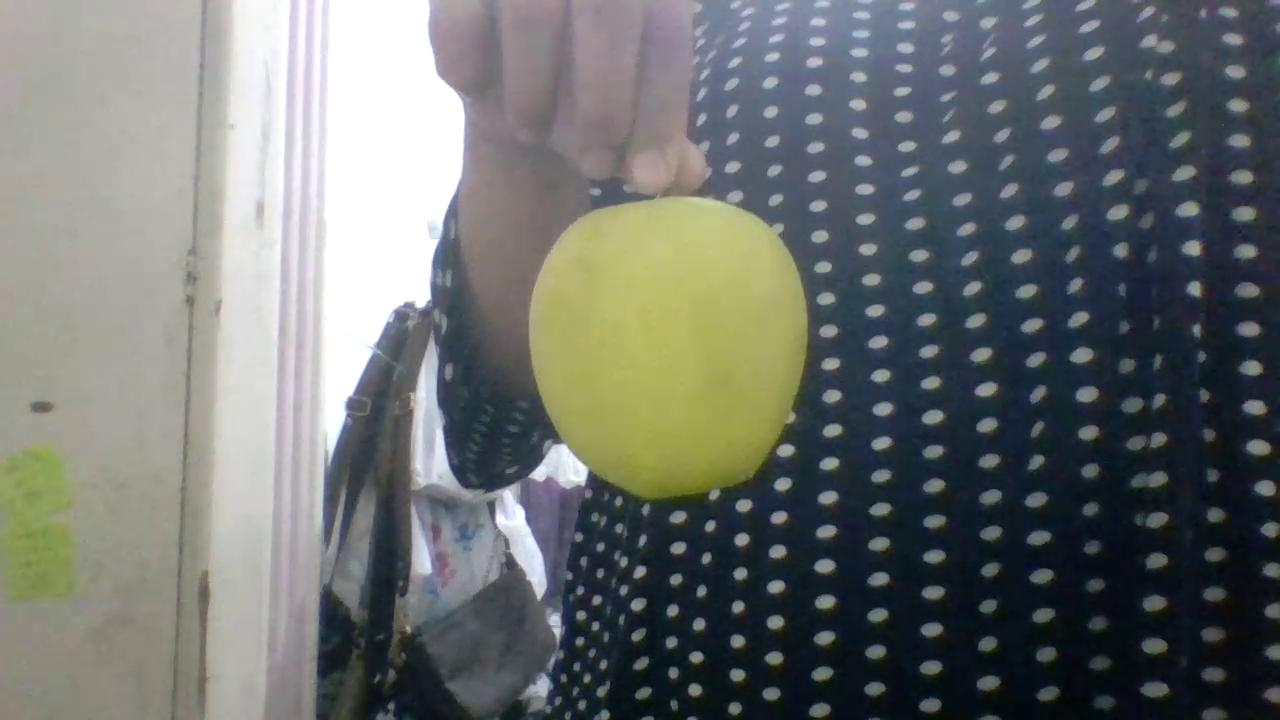fruit: (528, 197, 806, 497)
